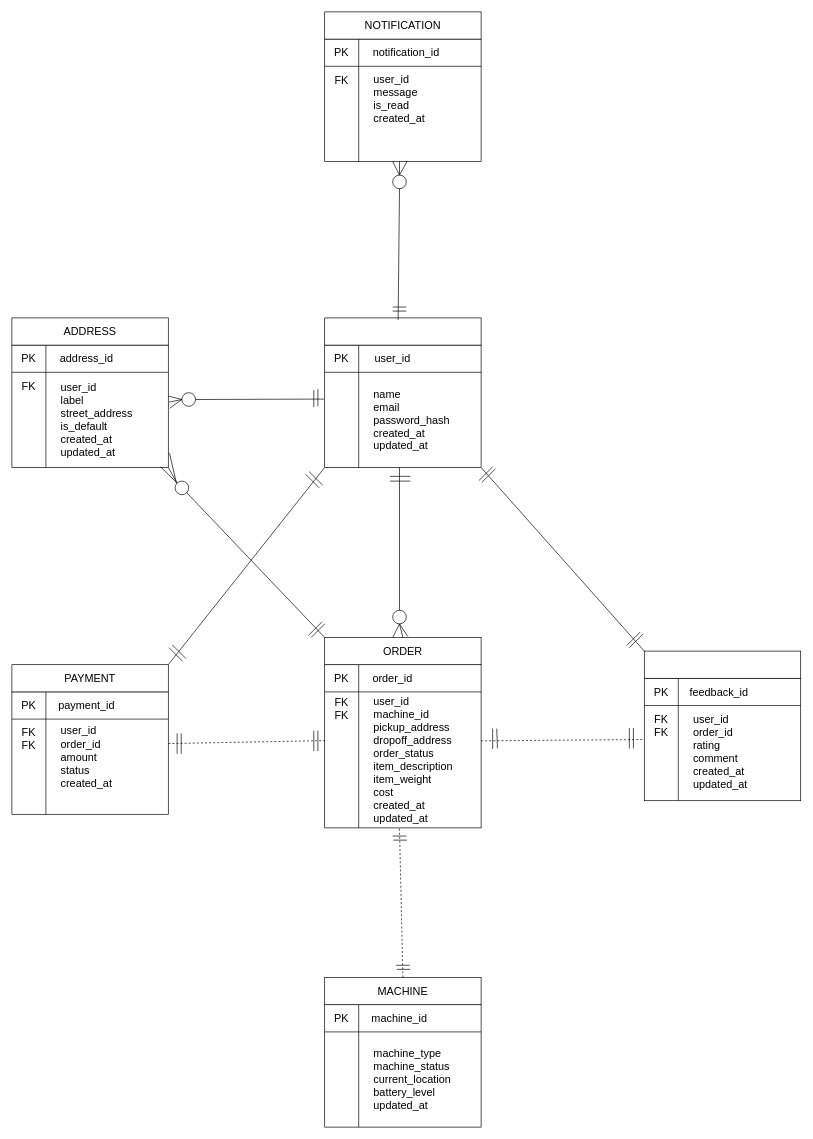
The diagram is 813 pixels wide and 1139 high, and some of its shapes have lost their labels. Each missing label, with the centre of its shape:
"FEEDBACK" goes at (722,664).
"USER" goes at (402,331).
